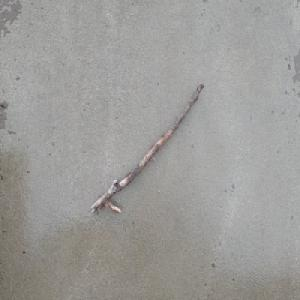Wood: (89, 81, 206, 215)
